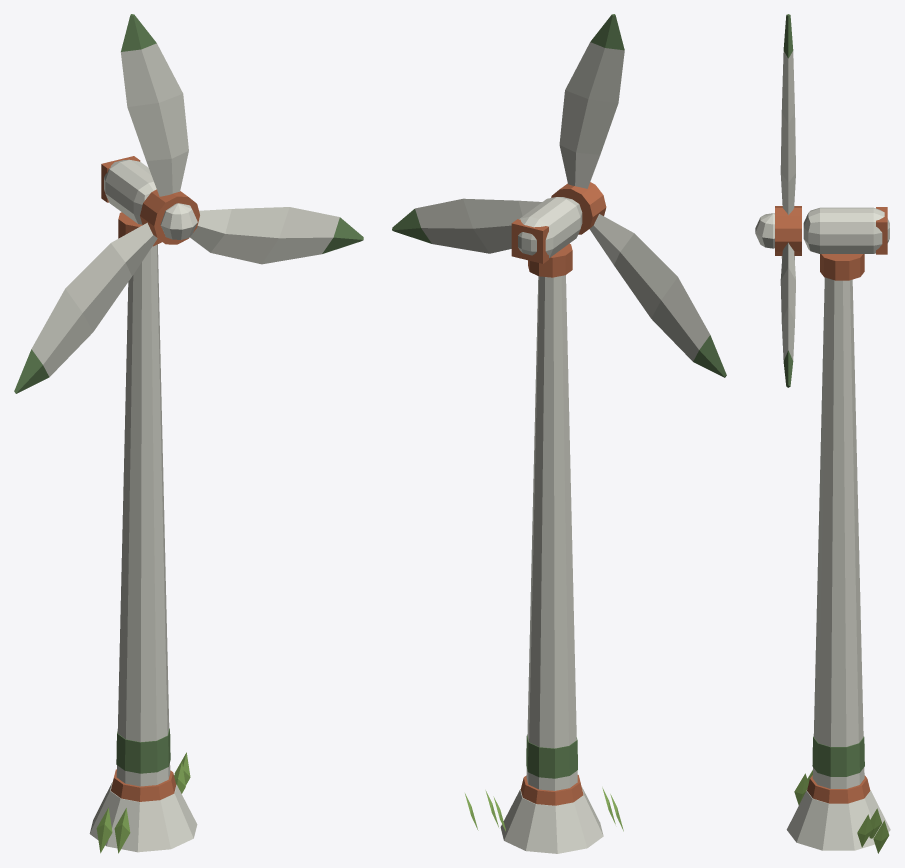
Rendered from wind_turbine_petal.glb.
3 renders of one model, left to right at view 1: azimuth 30°, elevation 25°; view 2: azimuth 150°, elevation 25°; view 3: azimuth 270°, elevation 25°, orthographic. The views are drawn at different scales.
Visible parts, largest first — view 1: move_spin_rotor, Tapered_ceramic_mast, Ceramic_flared_foot, Crafted_nacelle, Moss_lower_cuff, Copper_foot_cuff; view 2: move_spin_rotor, Tapered_ceramic_mast, Ceramic_flared_foot, Crafted_nacelle, Moss_lower_cuff, Copper_foot_cuff, Nacelle_copper_rear_band, Copper_yaw_bearing; view 3: Tapered_ceramic_mast, move_spin_rotor, Ceramic_flared_foot, Crafted_nacelle, Moss_lower_cuff, Copper_yaw_bearing, Copper_foot_cuff, Nacelle_copper_rear_band.
Boxes of the visible parts, x1,y1,x2,y2 form: move_spin_rotor: (14,14,363,393); Tapered_ceramic_mast: (116,244,170,786); Ceramic_flared_foot: (89,782,197,852); Crafted_nacelle: (104,159,156,224); Moss_lower_cuff: (116,728,170,773); Copper_foot_cuff: (110,769,176,801); move_spin_rotor: (392,14,726,377); Tapered_ceramic_mast: (526,275,577,790); Ceramic_flared_foot: (500,787,603,853); Crafted_nacelle: (518,197,582,257); Moss_lower_cuff: (526,735,577,778); Copper_foot_cuff: (520,775,583,805); Nacelle_copper_rear_band: (511,219,548,263); Copper_yaw_bearing: (528,243,572,277); Tapered_ceramic_mast: (812,277,864,788); move_spin_rotor: (755,14,801,387); Ceramic_flared_foot: (786,790,890,850); Crafted_nacelle: (803,207,889,253); Moss_lower_cuff: (812,736,864,776); Copper_yaw_bearing: (820,254,864,280); Copper_foot_cuff: (807,775,870,803); Nacelle_copper_rear_band: (876,207,887,254).
Size of the model in its own units: 2.13 by 4.9 by 0.7549.
